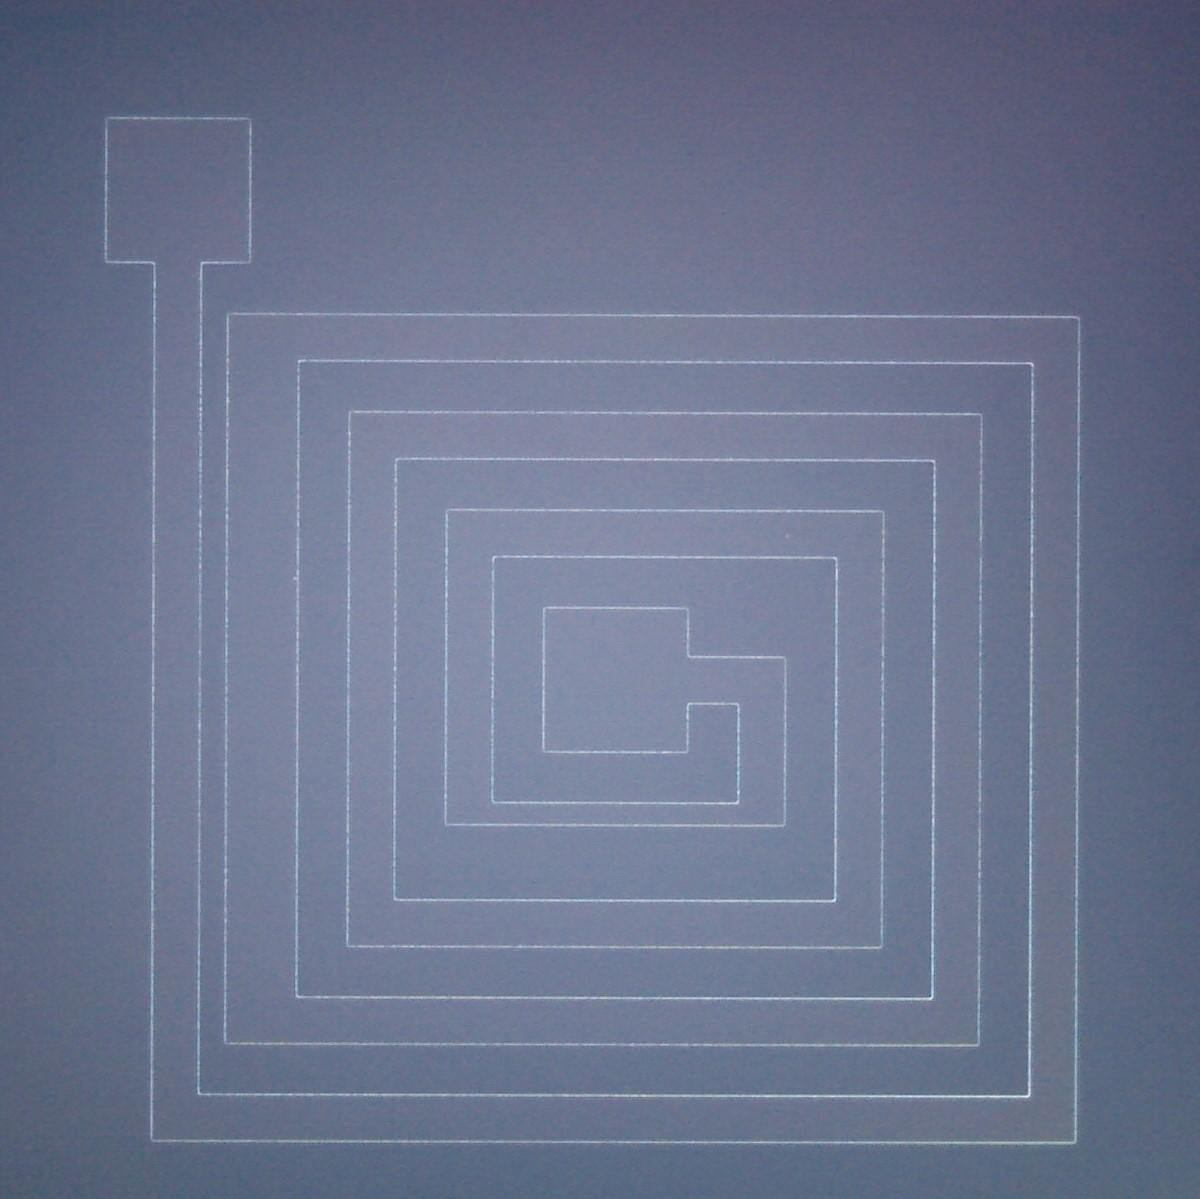width: (94, 381, 413, 986), (425, 646, 811, 973)
